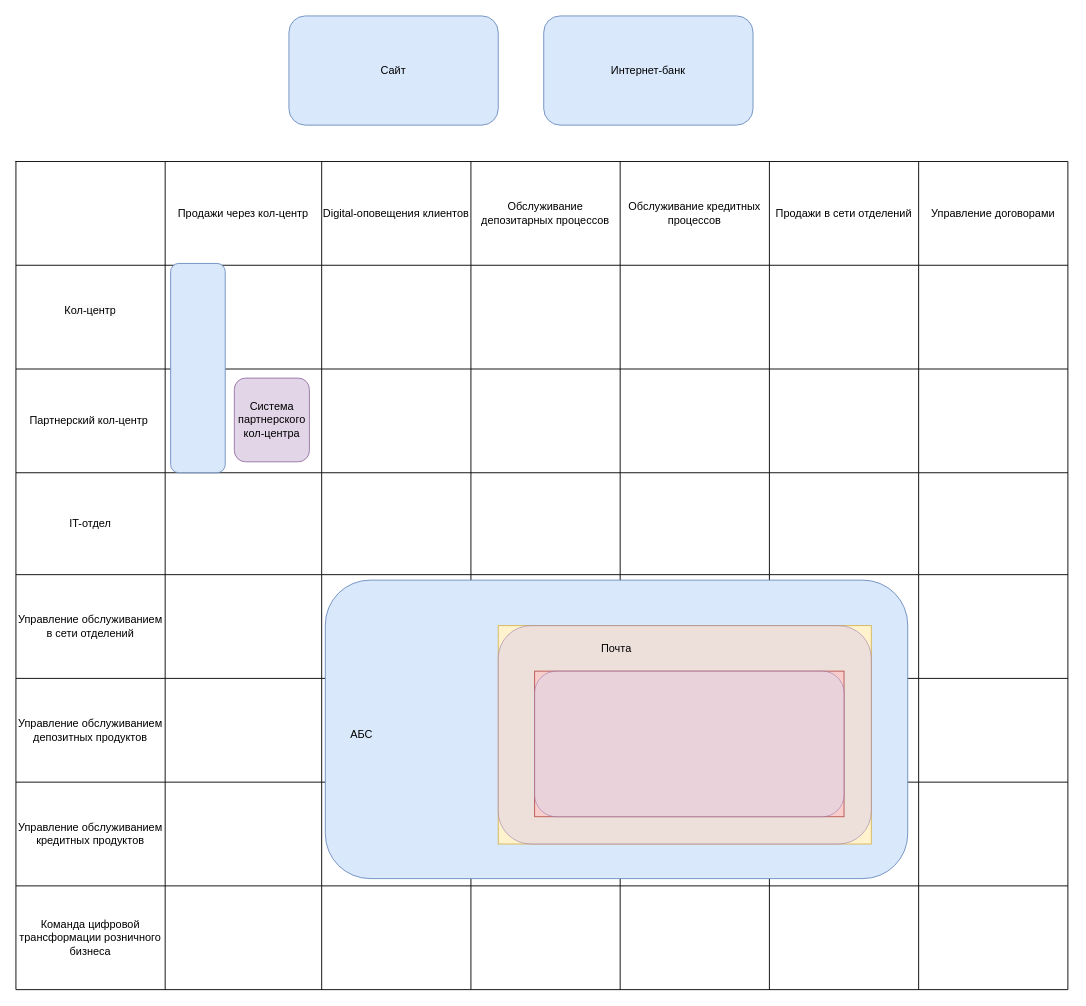
Some shapes in this 1086 by 1006 pixel diagram are drawn without their labels. Here are the shapes that lost their labels. From the top down, the box of each, then its label:
(170, 263, 225, 473): Система кол-центра
(534, 670, 844, 817): Excel
